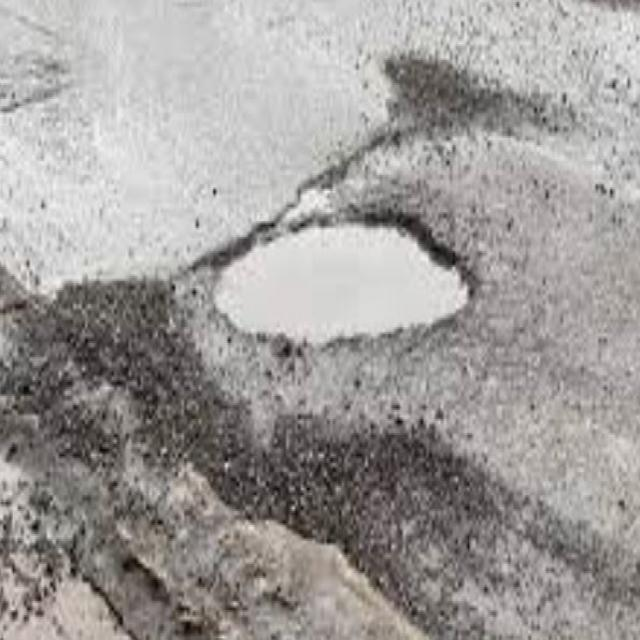pothole: (211, 215, 473, 342)
